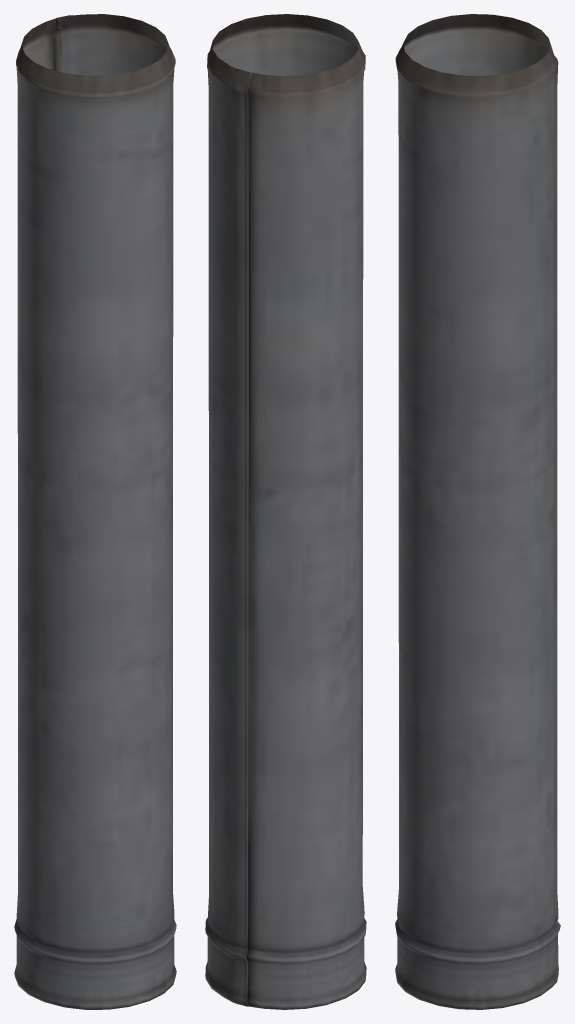
The model's file is modular_metal_gutter-downspout.glb.
3 views of the same model, side by side, from view 1: azimuth 30°, elevation 25°; view 2: azimuth 150°, elevation 25°; view 3: azimuth 270°, elevation 25° (orthographic).
Parts seen in each view (by area): view 1: modular_metal_gutter_section; view 2: modular_metal_gutter_section; view 3: modular_metal_gutter_section.
Part boxes in pixels (<box>): modular_metal_gutter_section: <box>14,14,176,1009</box>; modular_metal_gutter_section: <box>205,14,366,1009</box>; modular_metal_gutter_section: <box>395,14,560,1009</box>.
Size of the model in its own units: 0.1573 by 0.9999 by 0.161.
1 material, 1 textured.
